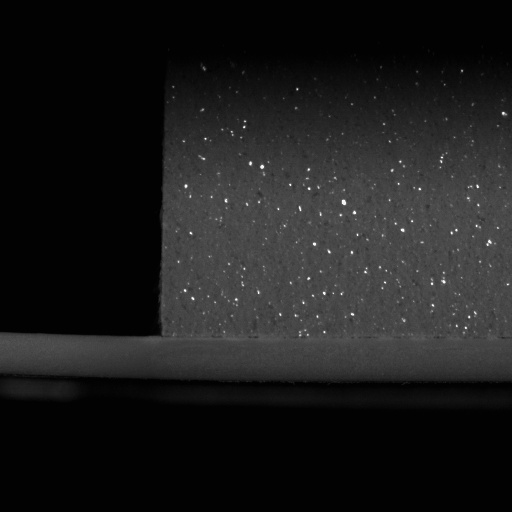changdai: (0, 330, 163, 381)
